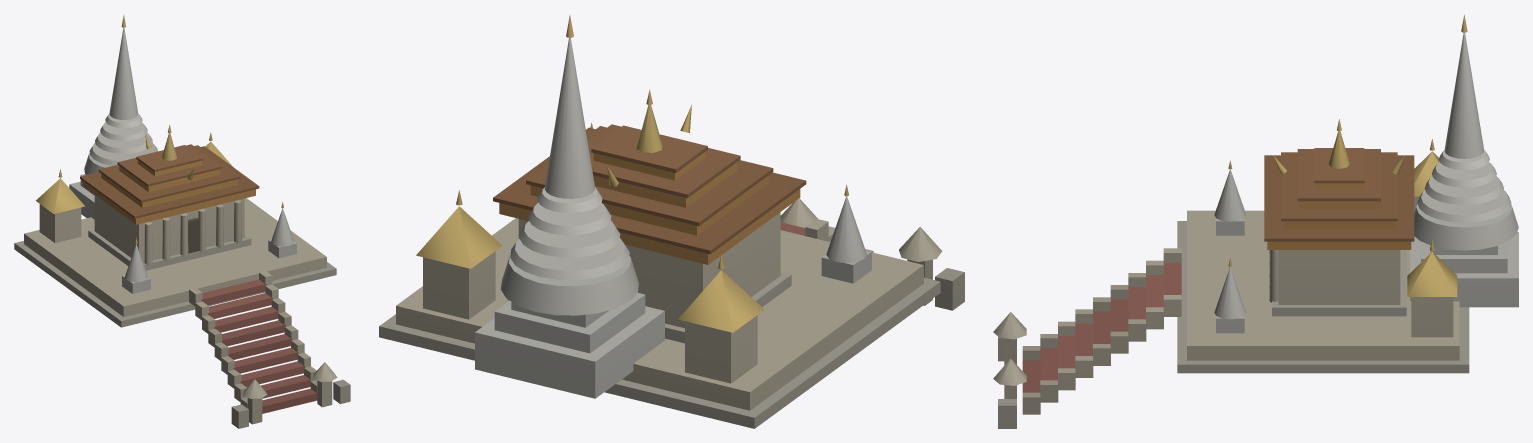
Rendered from wat-phnom.glb.
The picture shows the model from 3 angles, left to right: view 1: azimuth 30°, elevation 25°; view 2: azimuth 150°, elevation 25°; view 3: azimuth 270°, elevation 25°; orthographic projection. The views are drawn at different scales.
Size of the model in its own units: 5.3 by 6.52 by 8.2.
